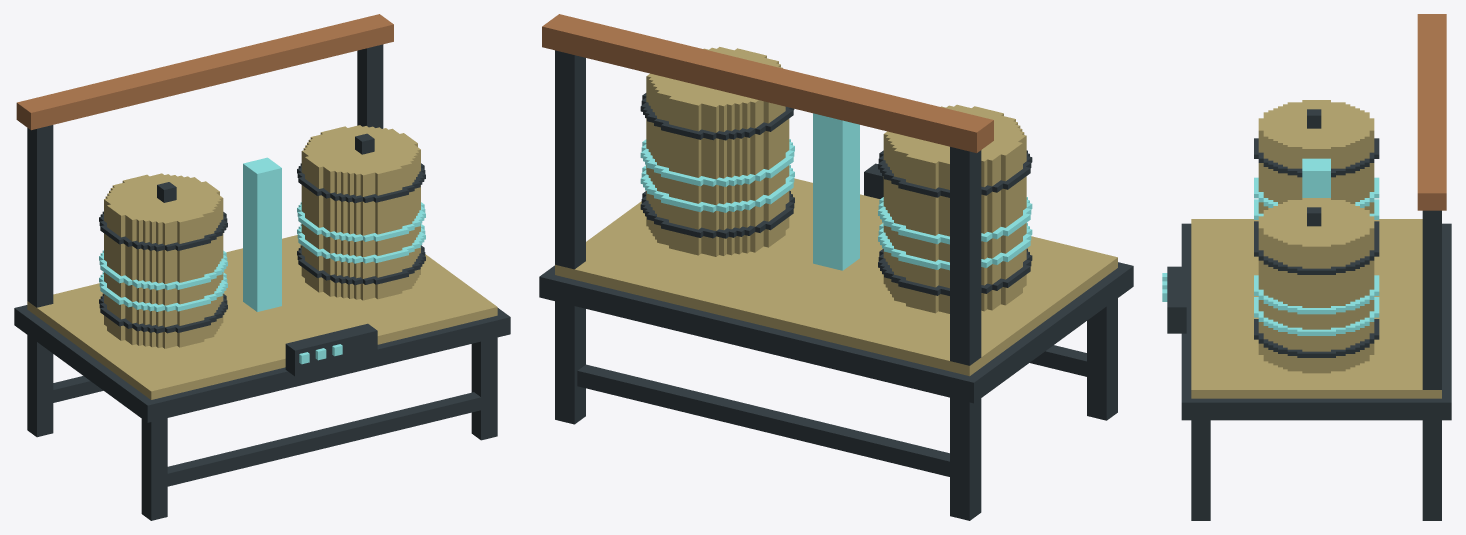
The model's file is arcane_engineering_station_t8.glb.
3 views of the same model, side by side, from view 1: azimuth 30°, elevation 25°; view 2: azimuth 150°, elevation 25°; view 3: azimuth 270°, elevation 25° (orthographic). The views are drawn at different scales.
Visible parts, largest first — view 1: arcane_engineering_station_t8/work_surface, arcane_engineering_station_t8/frame, arcane_engineering_station_t8/work_surface_lid_0, arcane_engineering_station_t8/work_surface_lid_1; view 2: arcane_engineering_station_t8/work_surface, arcane_engineering_station_t8/frame, arcane_engineering_station_t8/work_surface_lid_0, arcane_engineering_station_t8/work_surface_lid_1; view 3: arcane_engineering_station_t8/work_surface, arcane_engineering_station_t8/frame, arcane_engineering_station_t8/work_surface_lid_0, arcane_engineering_station_t8/work_surface_lid_1.
Boxes of the visible parts, bbox=[...] form: arcane_engineering_station_t8/work_surface: bbox=[16, 14, 497, 399]; arcane_engineering_station_t8/frame: bbox=[14, 305, 510, 520]; arcane_engineering_station_t8/work_surface_lid_0: bbox=[104, 173, 223, 227]; arcane_engineering_station_t8/work_surface_lid_1: bbox=[301, 125, 420, 179]; arcane_engineering_station_t8/work_surface: bbox=[542, 14, 1117, 376]; arcane_engineering_station_t8/frame: bbox=[539, 262, 1133, 520]; arcane_engineering_station_t8/work_surface_lid_0: bbox=[883, 104, 1026, 169]; arcane_engineering_station_t8/work_surface_lid_1: bbox=[646, 47, 782, 112]; arcane_engineering_station_t8/work_surface: bbox=[1162, 14, 1446, 398]; arcane_engineering_station_t8/frame: bbox=[1181, 223, 1451, 520]; arcane_engineering_station_t8/work_surface_lid_0: bbox=[1258, 100, 1374, 153]; arcane_engineering_station_t8/work_surface_lid_1: bbox=[1258, 198, 1374, 250].
Bounding box in the file's own units: 2.75 × 2.38 × 1.88.
